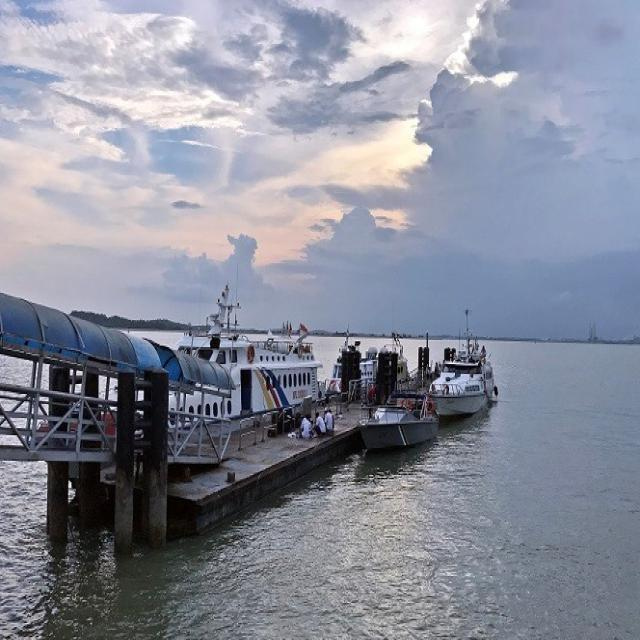houseboat: (426, 331, 500, 426), (358, 367, 432, 451)
